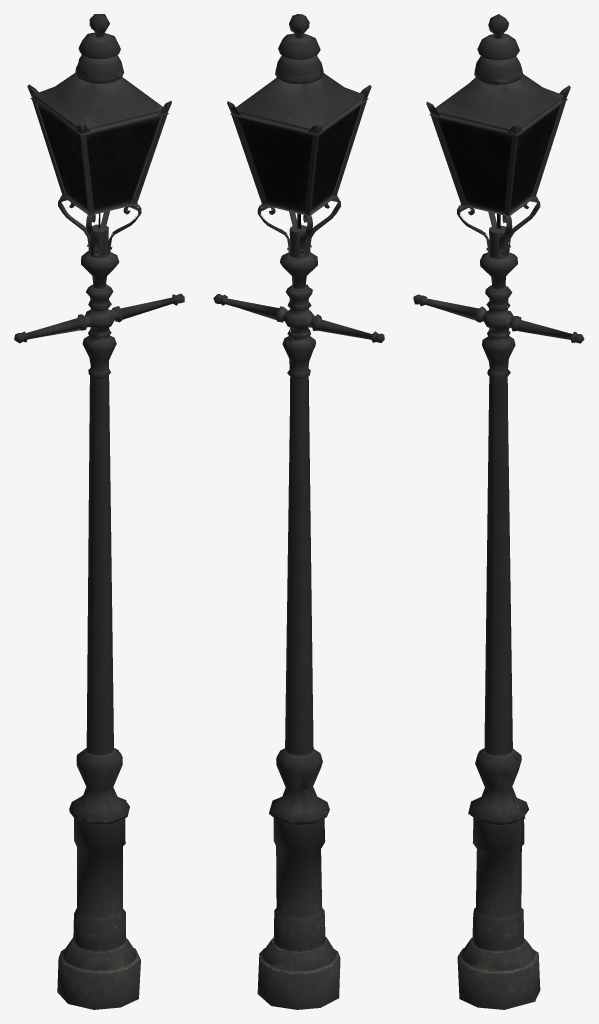
File: street_lamp.gltf
The picture shows the model from 3 angles, left to right: view 1: azimuth 30°, elevation 25°; view 2: azimuth 150°, elevation 25°; view 3: azimuth 330°, elevation 25°; orthographic projection.
Visible parts, largest first — view 1: street_lamp_01; view 2: street_lamp_01; view 3: street_lamp_01.
Part boxes in pixels (x1,y1,x2,y2): street_lamp_01: [14, 14, 184, 1009]; street_lamp_01: [213, 14, 384, 1009]; street_lamp_01: [413, 14, 584, 1009].
Size of the model in its own units: 0.7081 by 3.87 by 0.3839.
3 materials, 3 textured.
